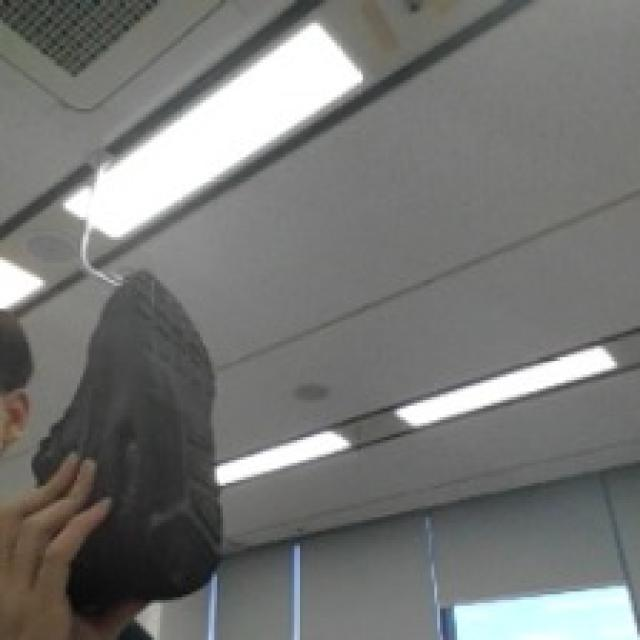shoe: (26, 235, 312, 619)
